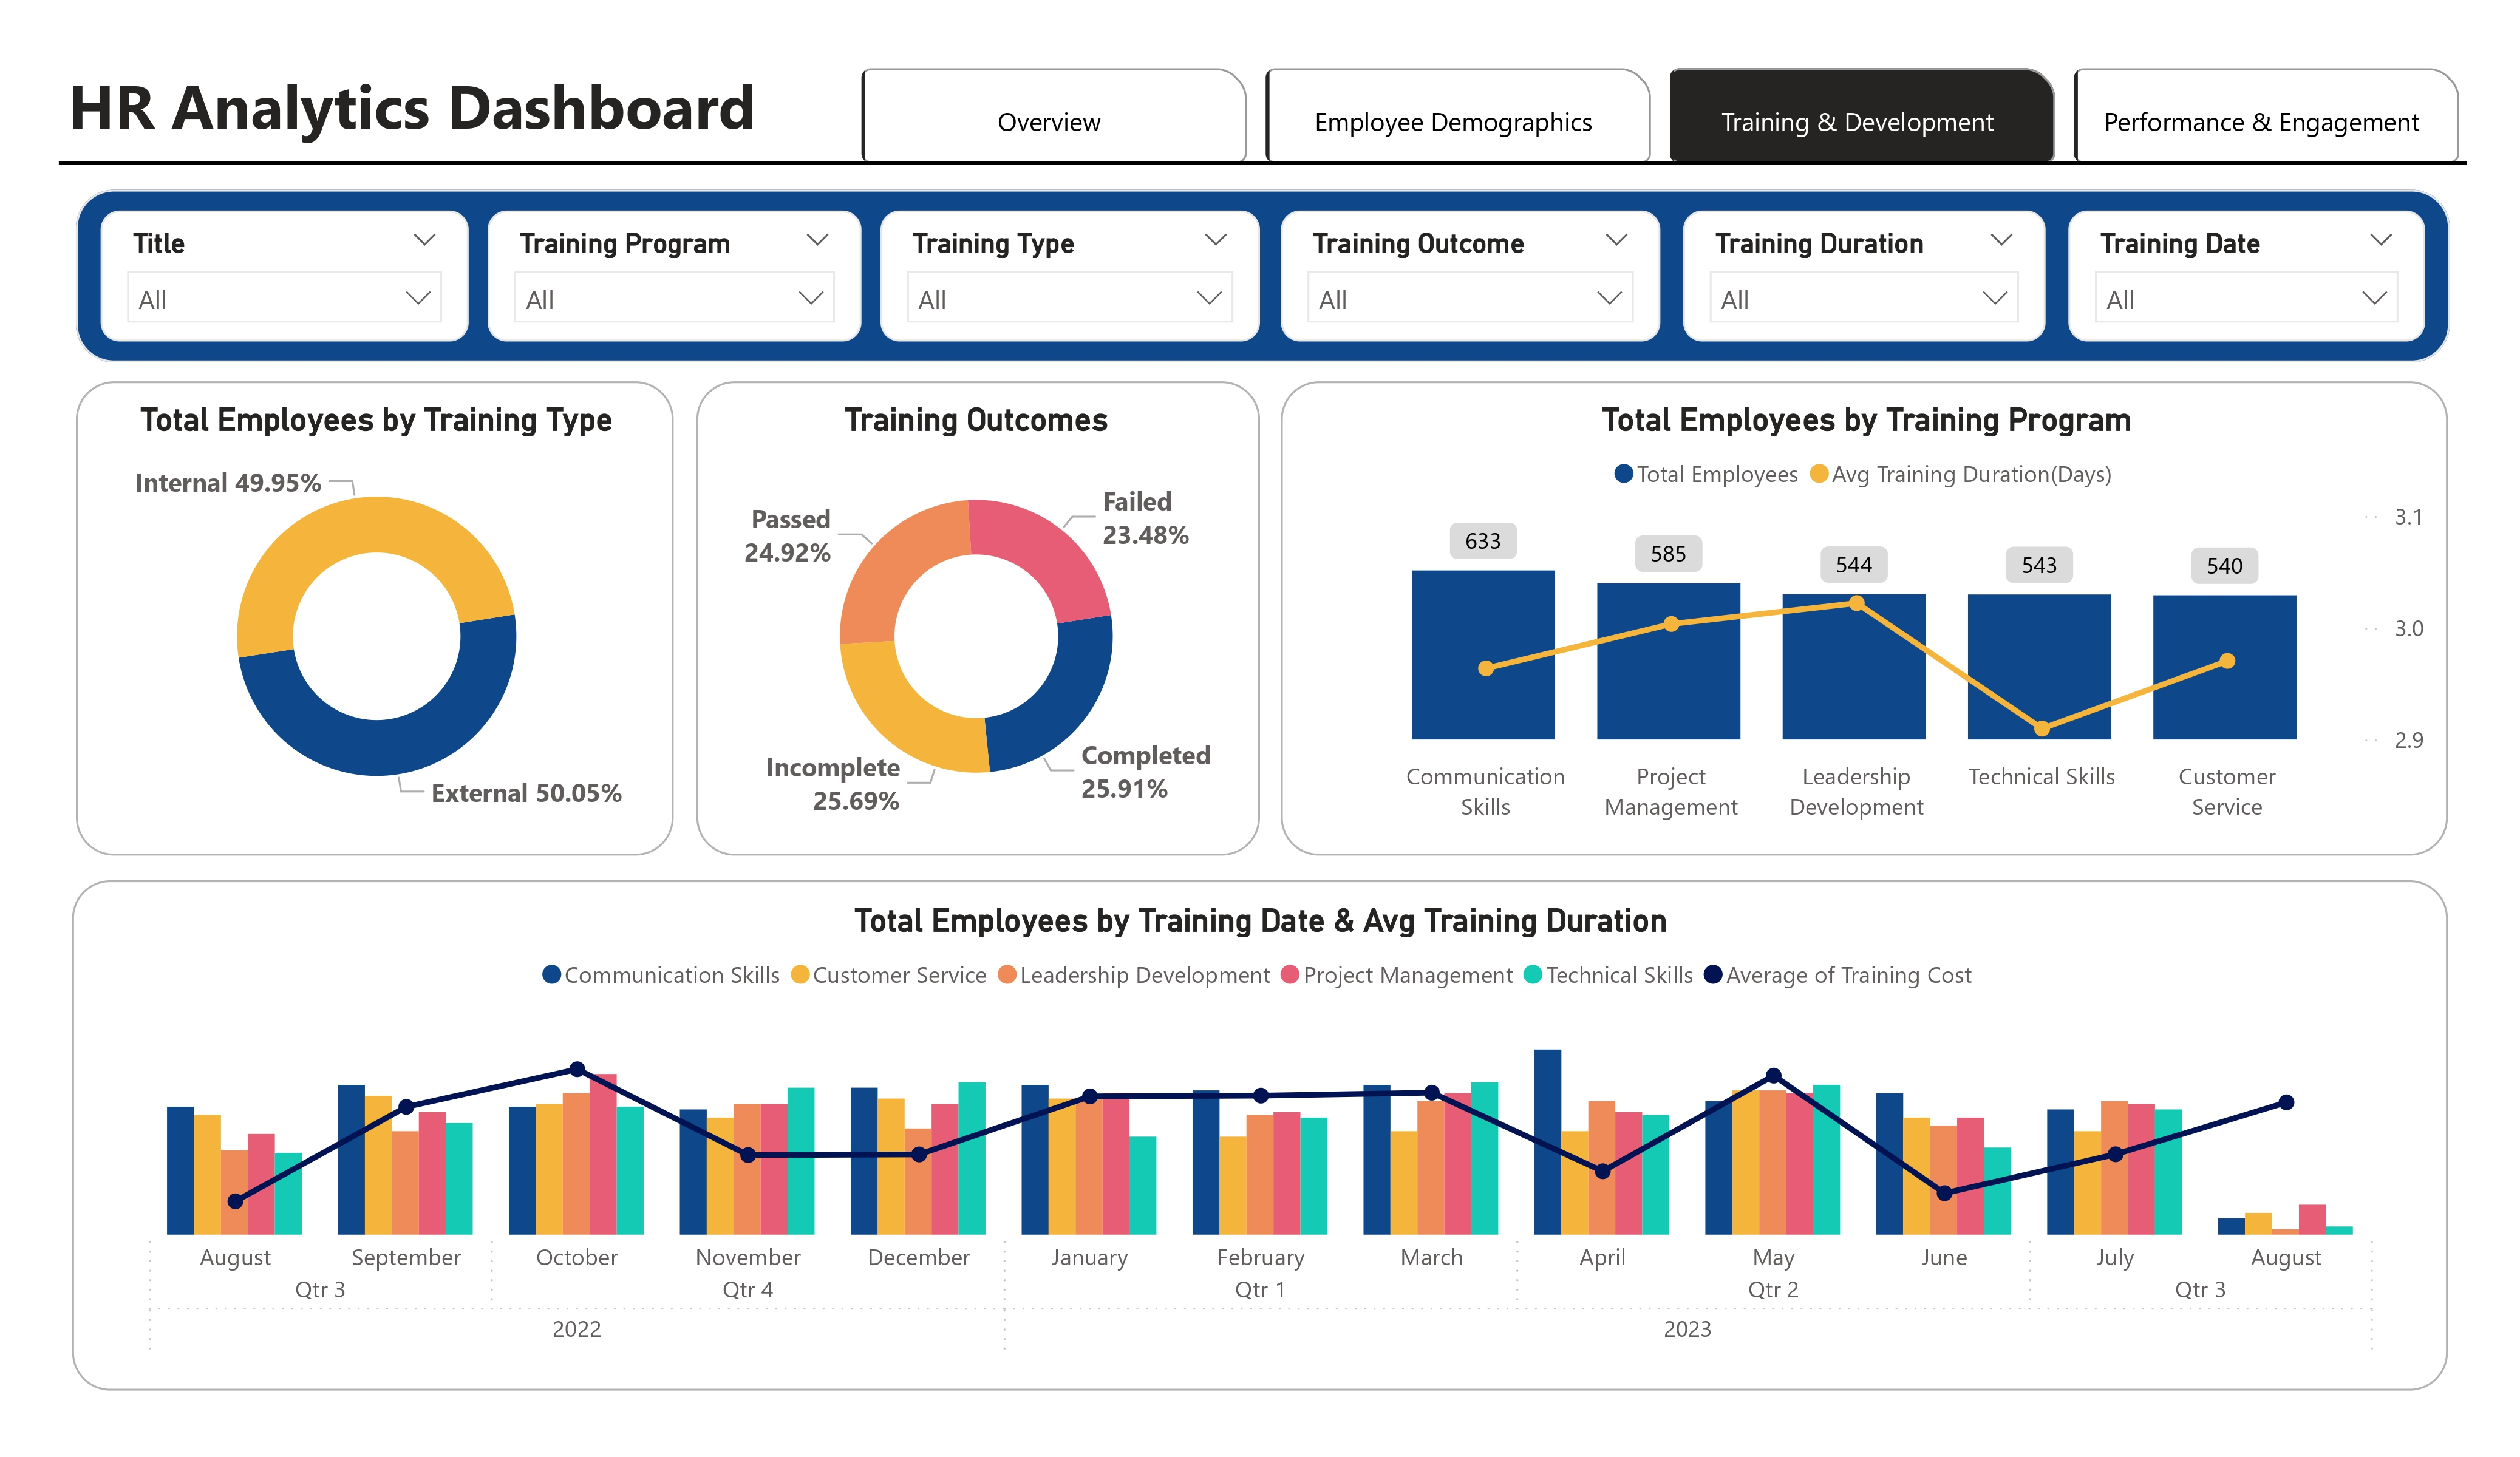

What the dashboard file says about the page in this screenshot:
{"tool":"powerbi","page":{"name":"Training & Development","canvas":[1280,720],"ordinal":2},"visuals":[{"type":"textbox","box":[7.1,4.3,407.1,58.6],"z":0},{"type":"shape","box":[15.7,177.1,315.7,250],"z":1000},{"type":"pageNavigator","box":[430,12.1,845,50],"z":2000},{"type":"shape","box":[7.1,0,1268.6,124.3],"z":3000},{"type":"donutChart","title":"Total Employees by  Training Type","fields":{"Category":["Cleaned_HR_Data_Analysis (2).Training Type"],"Y":["CountNonNull(Cleaned_HR_Data_Analysis (2).Employee ID)"]},"box":[25.7,187.1,297.1,230],"z":4000},{"type":"shape","box":[15.7,75.7,1251.4,91.4],"z":5000},{"type":"slicer","fields":{"Values":["Cleaned_HR_Data_Analysis (2).Title"]},"box":[28.6,87.1,194.3,68.6],"z":6000},{"type":"slicer","fields":{"Values":["Cleaned_HR_Data_Analysis (2).Training Program Name"]},"box":[232.9,87.1,197.1,68.6],"z":7000},{"type":"slicer","fields":{"Values":["Cleaned_HR_Data_Analysis (2).Training Type"]},"box":[440,87.1,200,68.6],"z":8000},{"type":"slicer","fields":{"Values":["Cleaned_HR_Data_Analysis (2).Training Outcome"]},"box":[651.4,87.1,200,68.6],"z":9000},{"type":"shape","box":[14.3,440,1251.4,268.6],"z":10000},{"type":"slicer","fields":{"Values":["Cleaned_HR_Data_Analysis (2).Training Duration(Days)"]},"box":[862.9,87.1,191.4,68.6],"z":11000},{"type":"slicer","fields":{"Values":["Cleaned_HR_Data_Analysis (2).Training Date"]},"box":[1065.7,87.1,188.6,68.6],"z":12000},{"type":"lineClusteredColumnComboChart","title":"Total Employees by Training Date & Avg Training Duration","fields":{"Y":["CountNonNull(Cleaned_HR_Data_Analysis (2).Employee ID)"],"Series":["Cleaned_HR_Data_Analysis (2).Training Program Name"],"Y2":["Avg(Cleaned_HR_Data_Analysis (2).Training Cost)"],"Category":["Cleaned_HR_Data_Analysis (2).Training Date.Variation.Date Hierarchy.Year","Cleaned_HR_Data_Analysis (2).Training Date.Variation.Date Hierarchy.Quarter","Cleaned_HR_Data_Analysis (2).Training Date.Variation.Date Hierarchy.Month"]},"box":[23,451,1235,250],"z":13000},{"type":"shape","box":[651.4,177.1,614.3,250],"z":14000},{"type":"lineStackedColumnComboChart","title":"Total Employees by Training Program","fields":{"Category":["Cleaned_HR_Data_Analysis (2).Training Program Name"],"Y":["CountNonNull(Cleaned_HR_Data_Analysis (2).Employee ID)"],"Y2":["Avg(Cleaned_HR_Data_Analysis (2).Training Duration(Days))"]},"box":[661.4,187.1,597.1,230],"z":15000},{"type":"shape","box":[342.9,177.1,297.1,250],"z":16000},{"type":"donutChart","title":"Training Outcomes","fields":{"Y":["CountNonNull(Cleaned_HR_Data_Analysis (2).Employee ID)"],"Category":["Cleaned_HR_Data_Analysis (2).Training Outcome"]},"box":[354.3,187.1,272.9,230],"z":17000}]}

Visuals, with their boxes on the page's 1280x720 design canvas (x1, y1, x2, y2). These are canvas units, not pixel positions in the 2520x1457 screenshot, which may show the page scaled, cropped or inside an application window:
textbox: bbox=[7, 4, 414, 63]
shape: bbox=[16, 177, 331, 427]
pageNavigator: bbox=[430, 12, 1275, 62]
shape: bbox=[7, 0, 1276, 124]
"Total Employees by  Training Type" donutChart: bbox=[26, 187, 323, 417]
shape: bbox=[16, 76, 1267, 167]
slicer - Cleaned_HR_Data_Analysis (2).Title: bbox=[29, 87, 223, 156]
slicer - Cleaned_HR_Data_Analysis (2).Training Program Name: bbox=[233, 87, 430, 156]
slicer - Cleaned_HR_Data_Analysis (2).Training Type: bbox=[440, 87, 640, 156]
slicer - Cleaned_HR_Data_Analysis (2).Training Outcome: bbox=[651, 87, 851, 156]
shape: bbox=[14, 440, 1266, 709]
slicer - Cleaned_HR_Data_Analysis (2).Training Duration(Days): bbox=[863, 87, 1054, 156]
slicer - Cleaned_HR_Data_Analysis (2).Training Date: bbox=[1066, 87, 1254, 156]
"Total Employees by Training Date & Avg Training Duration" lineClusteredColumnComboChart: bbox=[23, 451, 1258, 701]
shape: bbox=[651, 177, 1266, 427]
"Total Employees by Training Program" lineStackedColumnComboChart: bbox=[661, 187, 1258, 417]
shape: bbox=[343, 177, 640, 427]
"Training Outcomes" donutChart: bbox=[354, 187, 627, 417]
